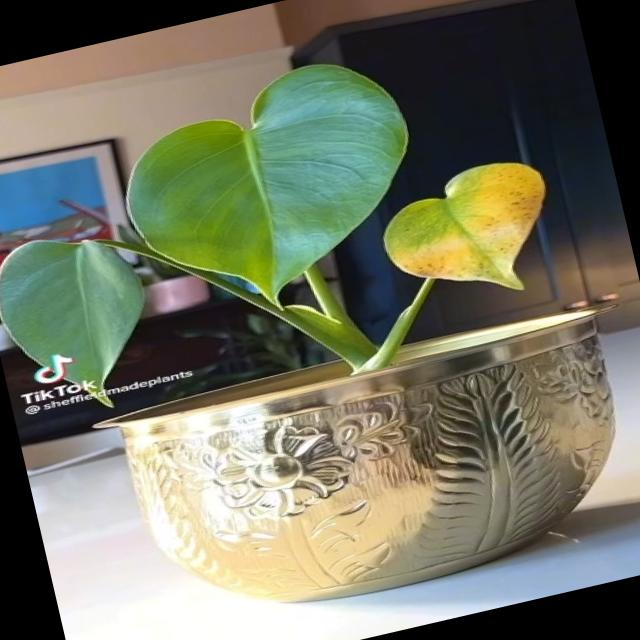lisc_przelany: (380, 162, 547, 290)
roslina_przelana: (0, 64, 544, 407)
